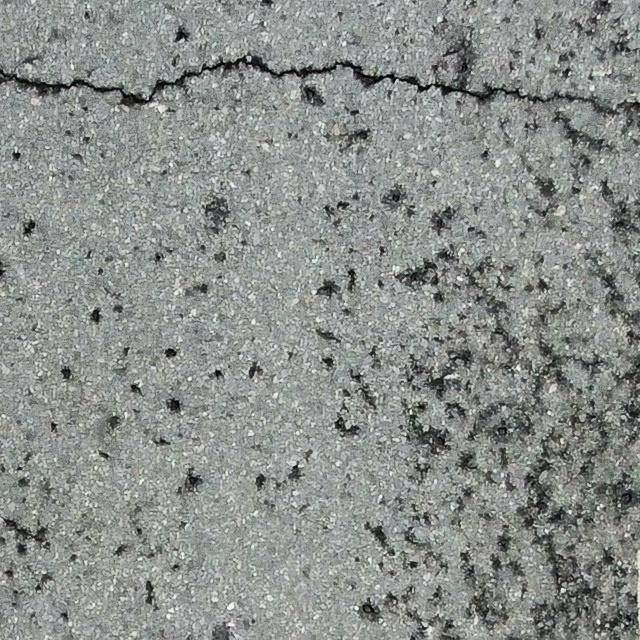TransverseCrack: (1, 51, 640, 117)
